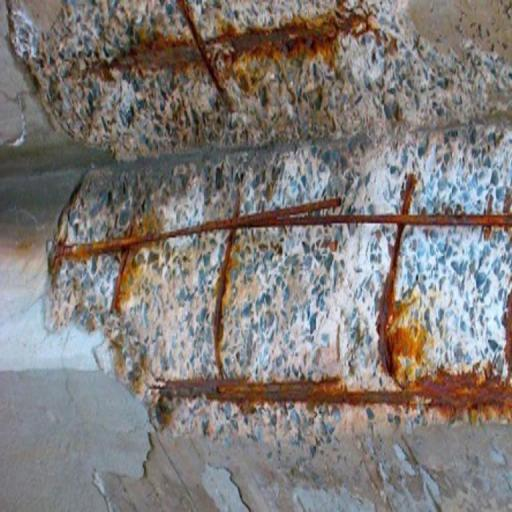spalling: (13, 0, 512, 431)
